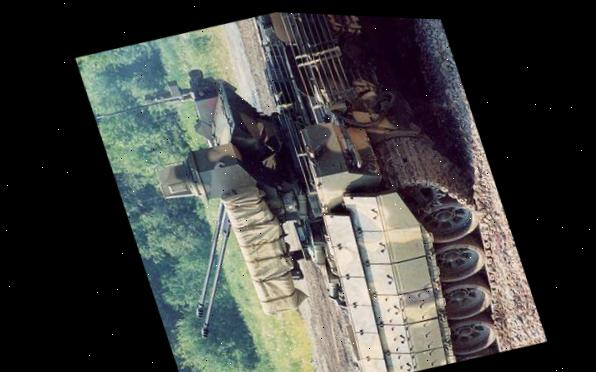tank: (104, 5, 531, 372)
